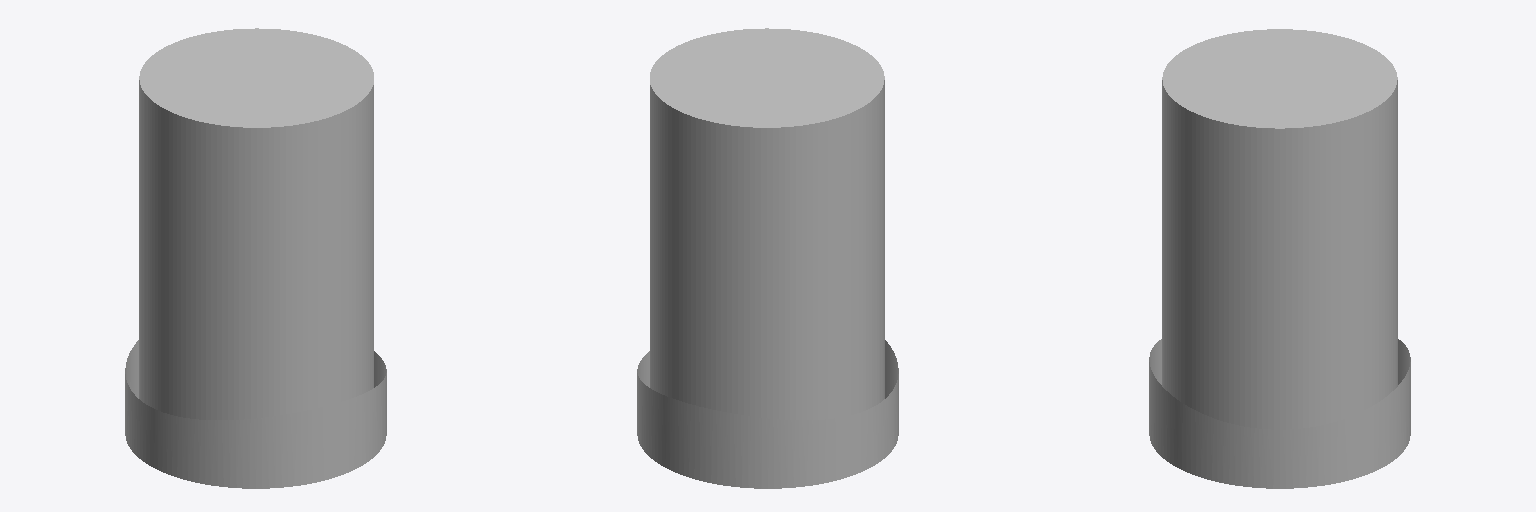
The model's file is separator_water.obj.
3 views of the same model, side by side, from view 1: azimuth 30°, elevation 25°; view 2: azimuth 150°, elevation 25°; view 3: azimuth 270°, elevation 25° (orthographic).
Parts seen in each view (by area): view 1: obj1; view 2: obj1; view 3: obj1.
Boxes of the visible parts, <box> form: obj1: <box>125,28,386,488</box>; obj1: <box>637,28,898,488</box>; obj1: <box>1149,29,1410,488</box>.
Size of the model in its own units: 2 by 3 by 2.